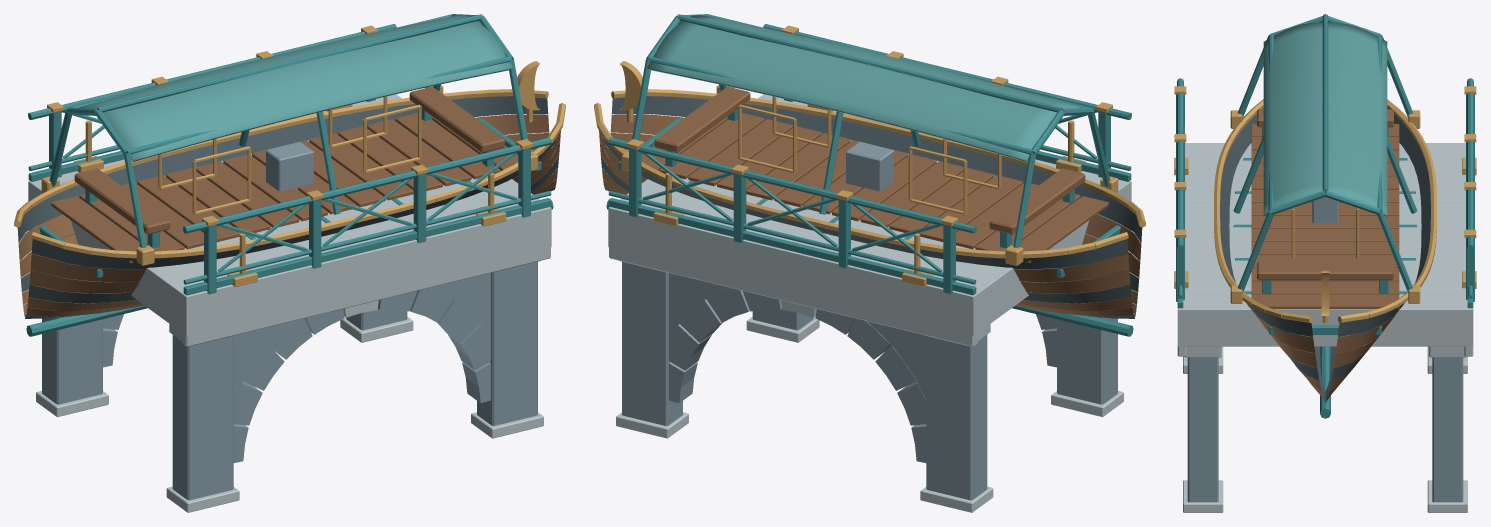
File: world05-architecture-v2.glb
3 renders of one model, left to right at view 1: azimuth 30°, elevation 25°; view 2: azimuth 150°, elevation 25°; view 3: azimuth 270°, elevation 25°, orthographic. The views are drawn at different scales.
Visible parts, largest first — view 1: cavern-viaduct-span | 01-blue-limestone, cavern-moon-gondola | 05-oiled-oak, cavern-viaduct-span | 02-frost-dressed-stone, cavern-moon-gondola | 07-soft-teal-canopy-cloth, cavern-viaduct-span | 03-aged-teal-metal, cavern-moon-gondola | 06-deep-boat-interior, cavern-moon-gondola | 04-warm-brass, cavern-moon-gondola | 03-aged-teal-metal, cavern-viaduct-span | 04-warm-brass, continuous blue-limestone pier shaft; view 2: cavern-viaduct-span | 01-blue-limestone, cavern-moon-gondola | 05-oiled-oak, cavern-viaduct-span | 02-frost-dressed-stone, cavern-moon-gondola | 07-soft-teal-canopy-cloth, cavern-viaduct-span | 03-aged-teal-metal, cavern-moon-gondola | 06-deep-boat-interior, cavern-moon-gondola | 04-warm-brass, cavern-moon-gondola | 03-aged-teal-metal, cavern-viaduct-span | 04-warm-brass, continuous blue-limestone pier shaft; view 3: cavern-viaduct-span | 02-frost-dressed-stone, cavern-moon-gondola | 07-soft-teal-canopy-cloth, cavern-moon-gondola | 05-oiled-oak, cavern-viaduct-span | 01-blue-limestone, cavern-moon-gondola | 03-aged-teal-metal, cavern-moon-gondola | 06-deep-boat-interior, cavern-moon-gondola | 04-warm-brass, cavern-viaduct-span | 03-aged-teal-metal, cavern-viaduct-span | 04-warm-brass, continuous blue-limestone pier shaft.
Boxes of the visible parts, box(x1,y1,x2,y2) form: cavern-viaduct-span | 01-blue-limestone: box(42, 261, 537, 500); cavern-moon-gondola | 05-oiled-oak: box(18, 86, 560, 316); cavern-viaduct-span | 02-frost-dressed-stone: box(28, 94, 551, 512); cavern-moon-gondola | 07-soft-teal-canopy-cloth: box(78, 15, 512, 161); cavern-viaduct-span | 03-aged-teal-metal: box(28, 24, 551, 295); cavern-moon-gondola | 06-deep-boat-interior: box(17, 96, 558, 318); cavern-moon-gondola | 04-warm-brass: box(14, 61, 565, 265); cavern-moon-gondola | 03-aged-teal-metal: box(26, 14, 553, 336); cavern-viaduct-span | 04-warm-brass: box(47, 25, 532, 286); continuous blue-limestone pier shaft: box(266, 142, 313, 191); cavern-viaduct-span | 01-blue-limestone: box(622, 261, 1117, 500); cavern-moon-gondola | 05-oiled-oak: box(599, 86, 1141, 316); cavern-viaduct-span | 02-frost-dressed-stone: box(608, 94, 1131, 512); cavern-moon-gondola | 07-soft-teal-canopy-cloth: box(647, 15, 1081, 161); cavern-viaduct-span | 03-aged-teal-metal: box(608, 24, 1131, 295); cavern-moon-gondola | 06-deep-boat-interior: box(601, 96, 1142, 318); cavern-moon-gondola | 04-warm-brass: box(594, 61, 1145, 265); cavern-moon-gondola | 03-aged-teal-metal: box(606, 14, 1133, 336); cavern-viaduct-span | 04-warm-brass: box(627, 25, 1112, 286); continuous blue-limestone pier shaft: box(846, 142, 893, 191); cavern-viaduct-span | 02-frost-dressed-stone: box(1177, 143, 1473, 512); cavern-moon-gondola | 07-soft-teal-canopy-cloth: box(1263, 22, 1387, 216); cavern-moon-gondola | 05-oiled-oak: box(1251, 109, 1399, 398); cavern-viaduct-span | 01-blue-limestone: box(1187, 357, 1463, 502); cavern-moon-gondola | 03-aged-teal-metal: box(1233, 14, 1417, 418); cavern-moon-gondola | 06-deep-boat-interior: box(1220, 108, 1430, 402); cavern-moon-gondola | 04-warm-brass: box(1214, 99, 1436, 323); cavern-viaduct-span | 03-aged-teal-metal: box(1176, 78, 1474, 308); cavern-viaduct-span | 04-warm-brass: box(1174, 86, 1476, 288); continuous blue-limestone pier shaft: box(1312, 197, 1338, 222).
Bounding box in the file's own units: 8.78 × 5.54 × 4.6.
